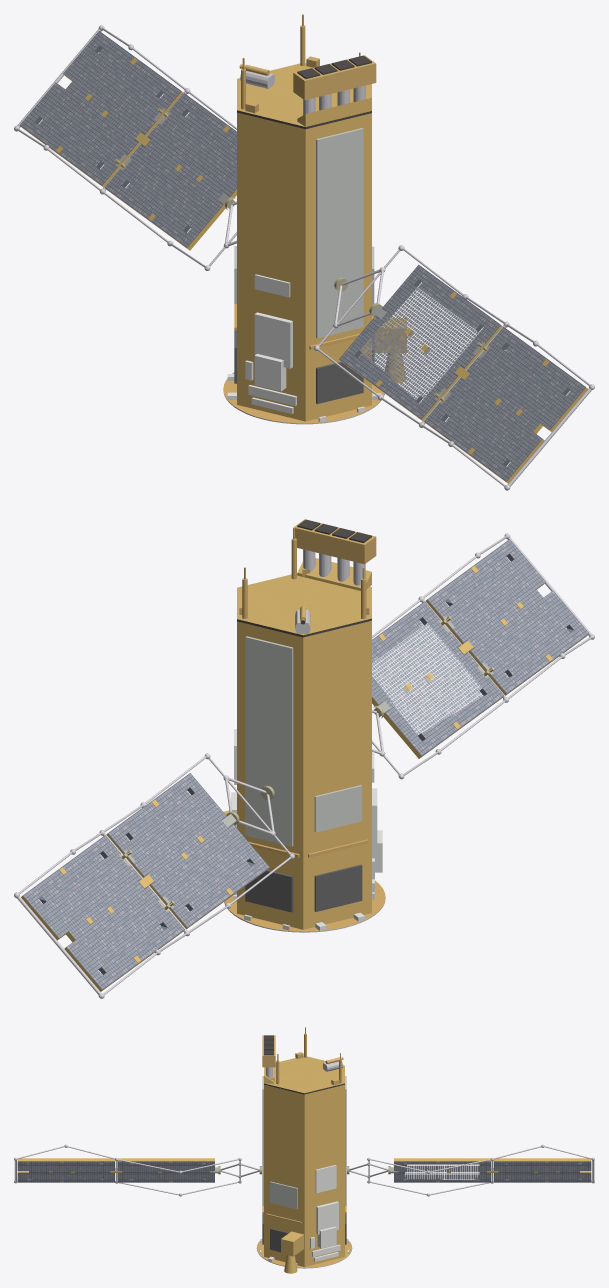
The model's file is oco2.glb.
3 renders of one model, top to bottom at view 1: azimuth 30°, elevation 25°; view 2: azimuth 150°, elevation 25°; view 3: azimuth 270°, elevation 25°, orthographic. The views are drawn at different scales.
Visible parts, largest first — view 1: Layer_0; view 2: Layer_0; view 3: Layer_0.
Part boxes in pixels (left/top/right/bottom): Layer_0: left=14, top=14, right=594, bottom=490; Layer_0: left=14, top=519, right=594, bottom=998; Layer_0: left=14, top=1027, right=594, bottom=1273.
Bounding box in the file's own units: 7.63 × 15.42 × 39.87.
Materials: 1 (1 with a texture image).
